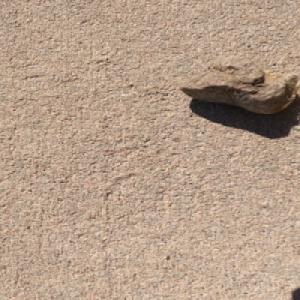Rock: (177, 54, 300, 114)
